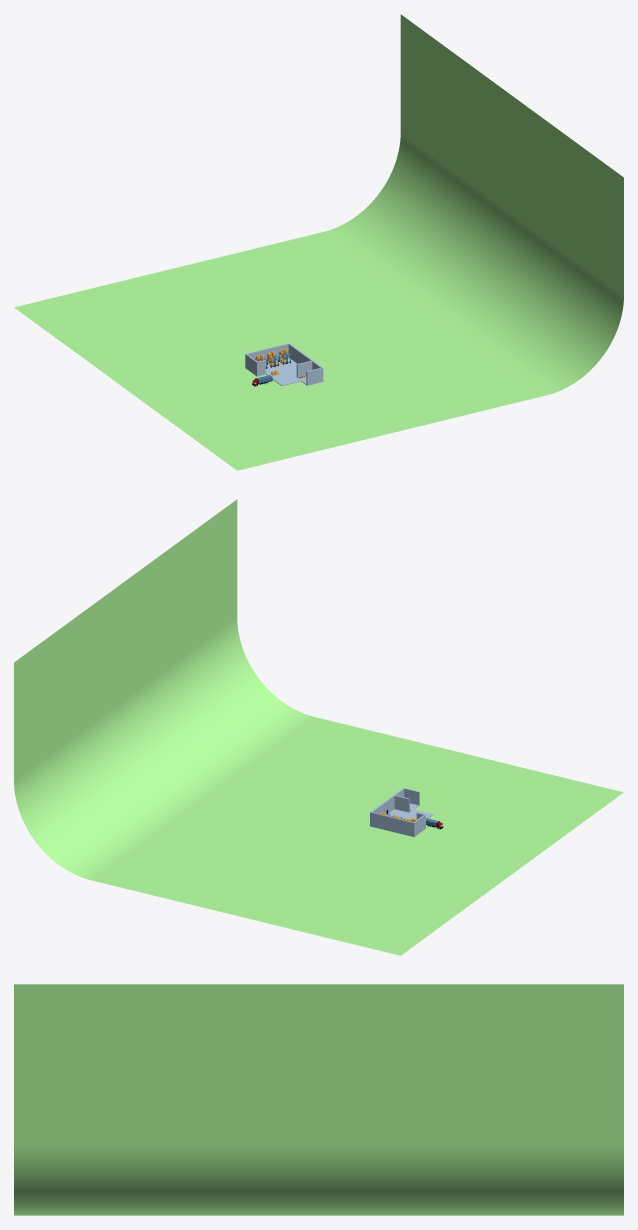
The model's file is bodega1.fbx.
The picture shows the model from 3 angles, top to bottom: view 1: azimuth 30°, elevation 25°; view 2: azimuth 150°, elevation 25°; view 3: azimuth 270°, elevation 25°; orthographic projection. The views are drawn at different scales.
Parts seen in each view (by area): view 1: Plane, Warehouse; view 2: Plane, Warehouse; view 3: Plane.
Boxes of the visible parts, box(x1,y1,x2,y2) form: Plane: box(14, 14, 623, 470); Warehouse: box(245, 343, 323, 385); Plane: box(14, 499, 623, 955); Warehouse: box(370, 788, 433, 836); Plane: box(14, 984, 623, 1215).
Size of the model in its own units: 32124 by 15788 by 32124.
